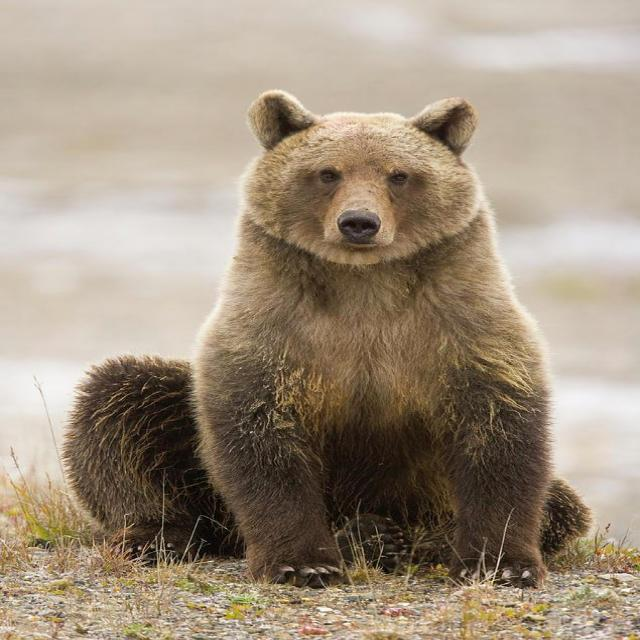Bear: (62, 91, 593, 591)
